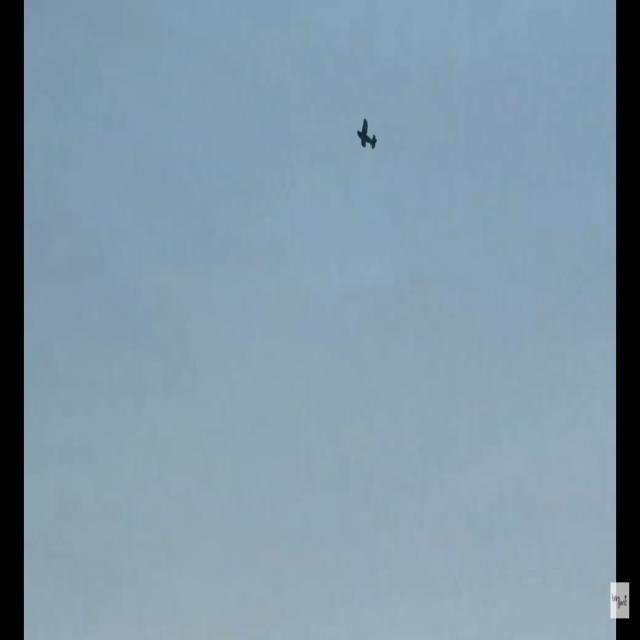iha: (354, 111, 377, 146)
